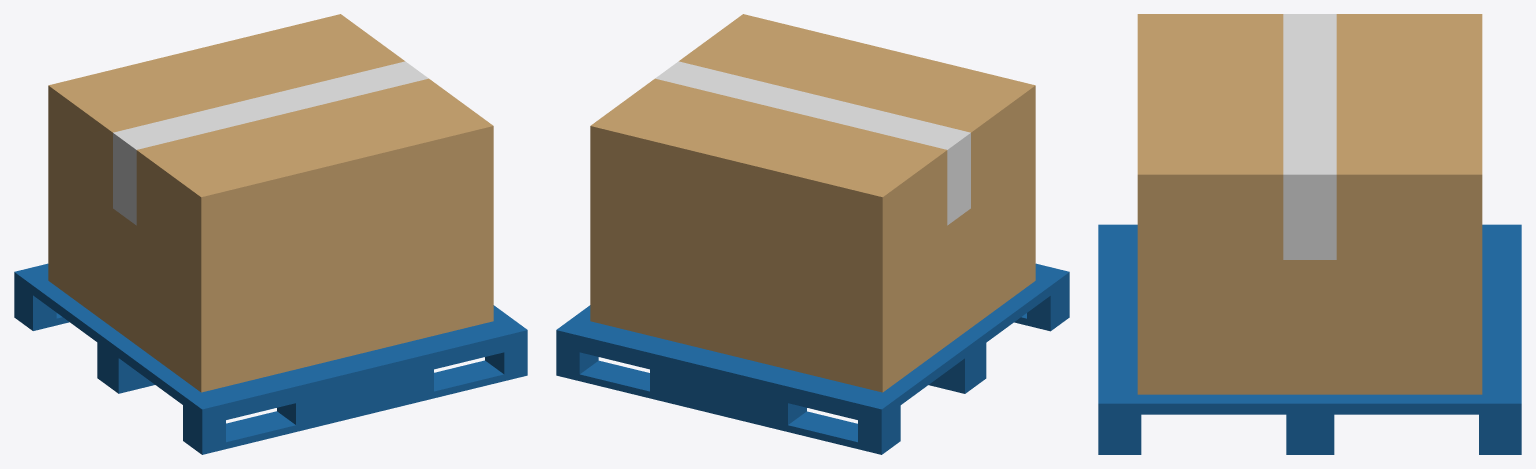
File: blue-pallet-load.glb
3 views of the same model, side by side, from view 1: azimuth 30°, elevation 25°; view 2: azimuth 150°, elevation 25°; view 3: azimuth 270°, elevation 25° (orthographic). The views are drawn at different scales.
Visible parts, largest first — view 1: Cube105, blue-pallet-load__蓝色塑料托盘001, Cube105_1; view 2: Cube105, blue-pallet-load__蓝色塑料托盘001, Cube105_1; view 3: Cube105, blue-pallet-load__蓝色塑料托盘001, Cube105_1.
Boxes of the visible parts, x1,y1,x2,y2 form: Cube105: [48, 14, 493, 392]; blue-pallet-load__蓝色塑料托盘001: [14, 263, 527, 454]; Cube105_1: [113, 61, 428, 225]; Cube105: [590, 14, 1035, 392]; blue-pallet-load__蓝色塑料托盘001: [556, 263, 1069, 454]; Cube105_1: [655, 61, 970, 225]; Cube105: [1137, 14, 1482, 394]; blue-pallet-load__蓝色塑料托盘001: [1098, 224, 1521, 454]; Cube105_1: [1283, 14, 1336, 259].
Size of the model in its own units: 1.22 by 0.8631 by 1.22.
